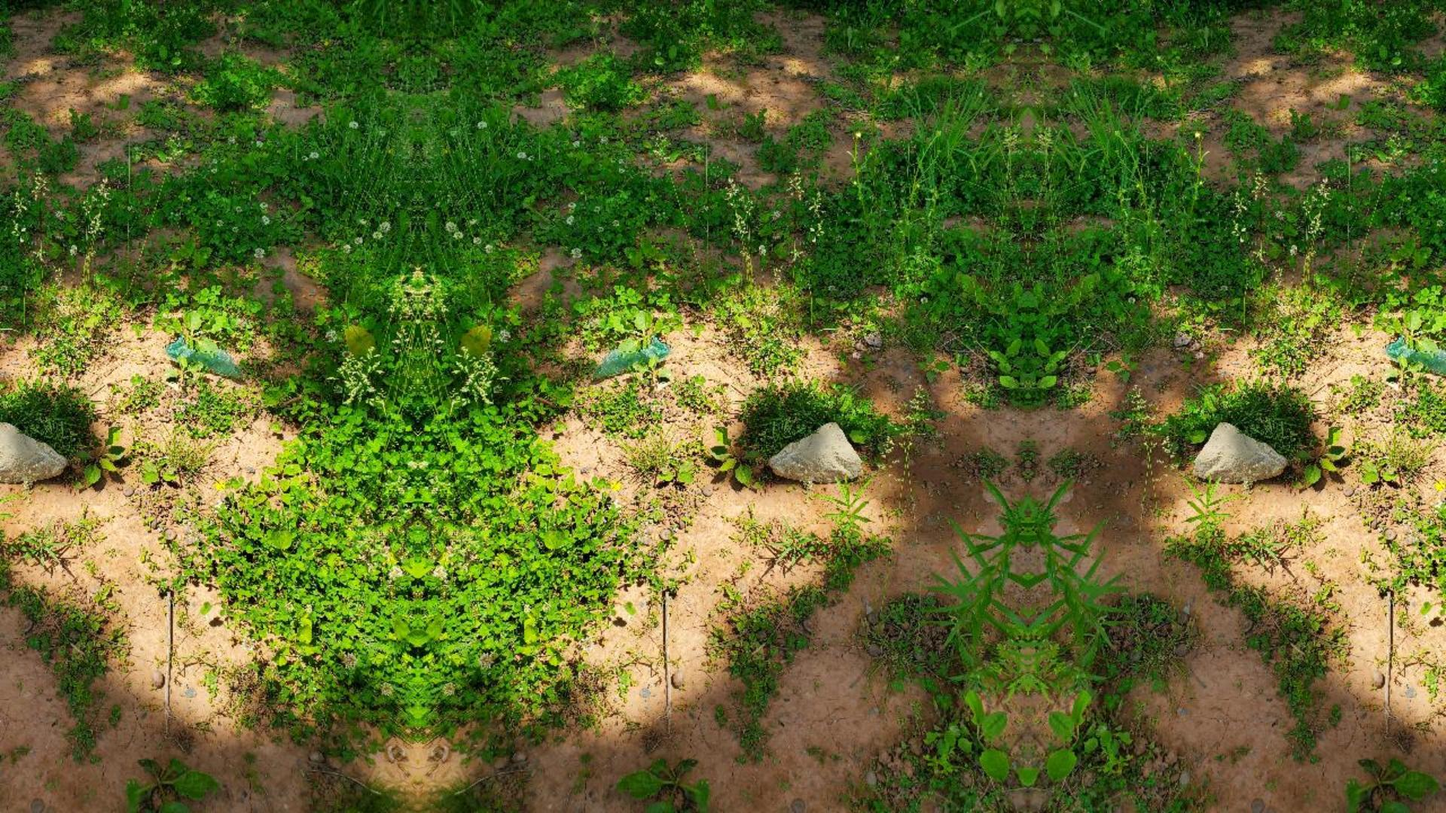rock: (1194, 422, 1287, 483), (769, 422, 861, 482), (0, 422, 67, 484)
